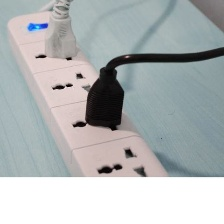three_eye_plug: (3, 7, 174, 181)
